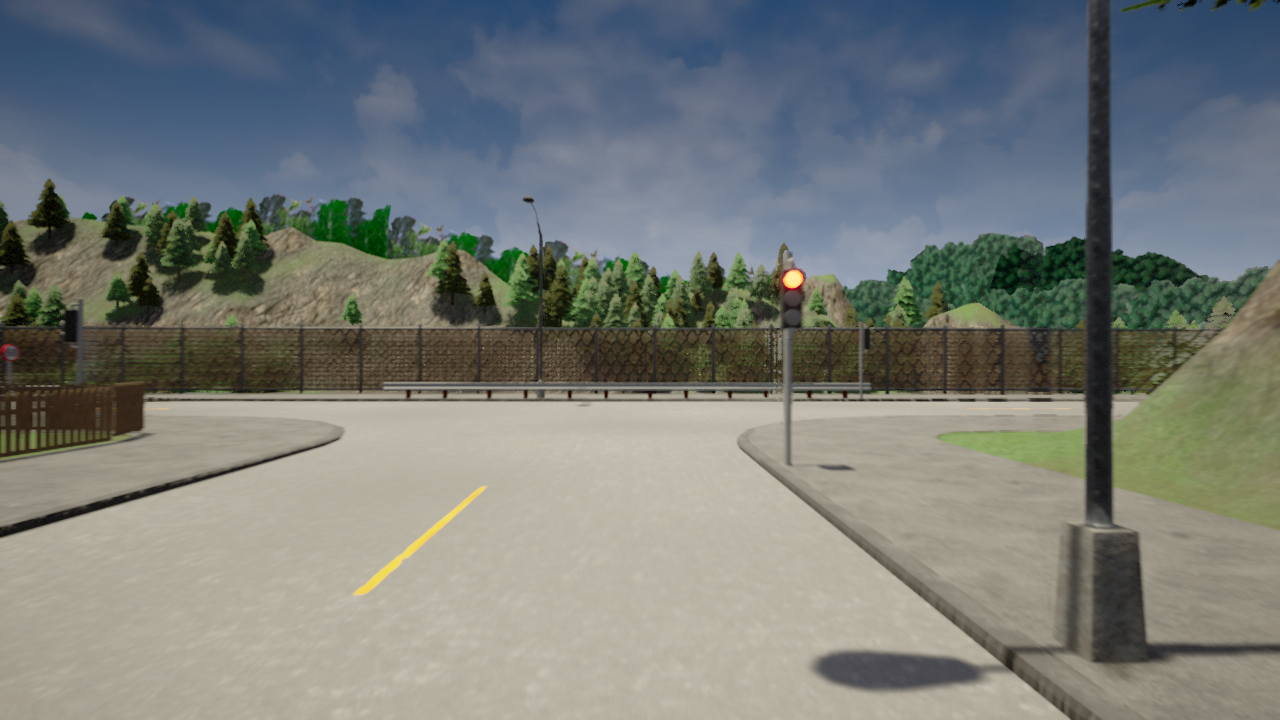red: (778, 268, 807, 326)
